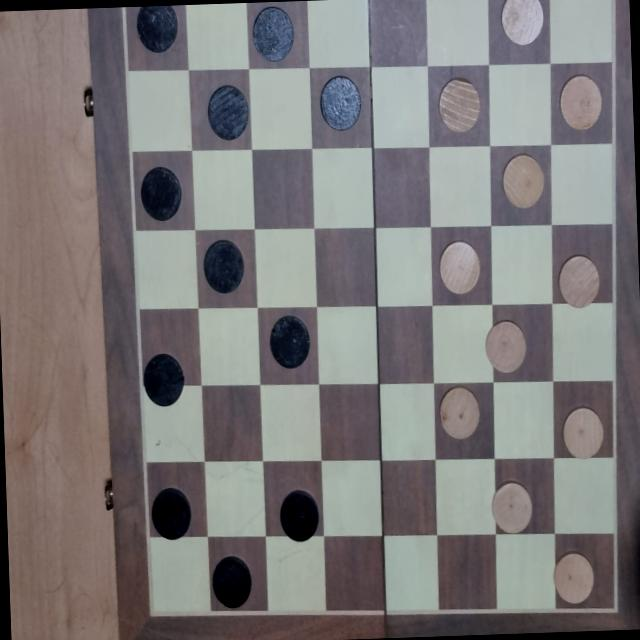BOARD: (120, 0, 626, 637)
black: (192, 74, 256, 148), (120, 5, 191, 70), (130, 154, 189, 229), (144, 474, 198, 552), (134, 345, 191, 417), (195, 228, 247, 304), (312, 68, 364, 140), (244, 5, 306, 64), (265, 306, 317, 374), (210, 543, 258, 614), (276, 484, 322, 550)
white: (429, 66, 490, 146), (430, 226, 491, 306), (555, 386, 610, 468), (554, 63, 611, 141), (548, 537, 606, 611), (474, 317, 540, 379), (546, 244, 606, 312), (492, 148, 550, 216), (487, 470, 541, 541), (490, 0, 550, 59), (436, 374, 480, 446)
